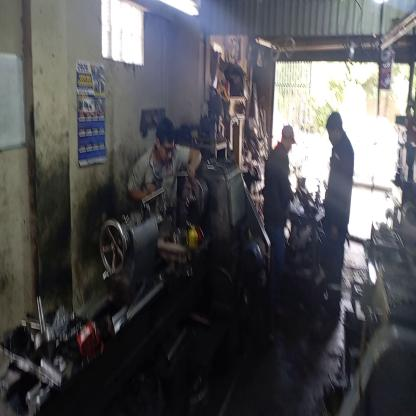lentes: (158, 137, 176, 159)
